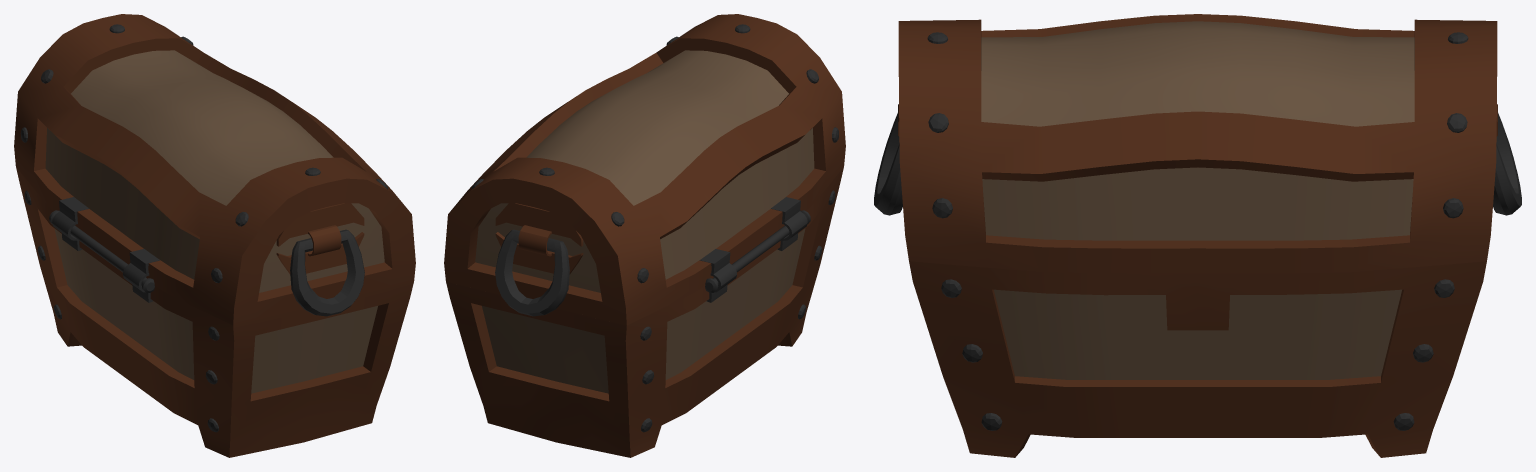
The model's file is Chest_Animated.fbx.
3 renders of one model, left to right at view 1: azimuth 30°, elevation 25°; view 2: azimuth 150°, elevation 25°; view 3: azimuth 270°, elevation 25°, orthographic. The views are drawn at different scales.
Visible parts, largest first — view 1: Smooth_top.011, Smooth_top.017; view 2: Smooth_top.011, Smooth_top.017; view 3: Smooth_top.011, Smooth_top.017.
Part boxes in pixels (left/top/right/bottom): Smooth_top.011: left=14, top=14, right=415, bottom=325; Smooth_top.017: left=16, top=167, right=413, bottom=457; Smooth_top.011: left=444, top=14, right=845, bottom=325; Smooth_top.017: left=446, top=167, right=843, bottom=457; Smooth_top.011: left=874, top=14, right=1521, bottom=273; Smooth_top.017: left=909, top=261, right=1486, bottom=457.
Size of the model in its own units: 123 by 143 by 225.
